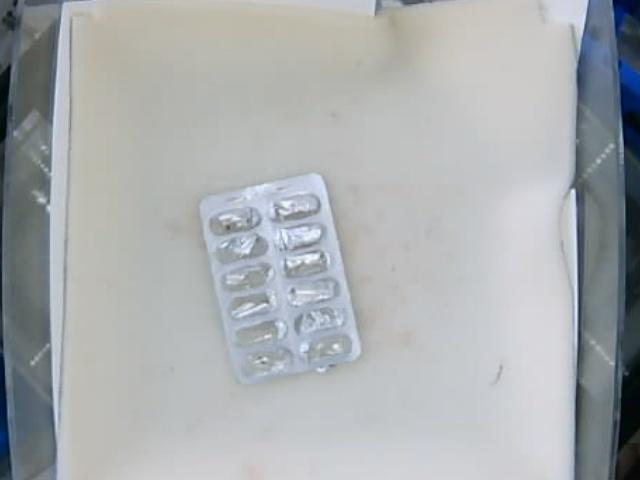Medicine: (194, 173, 363, 382)
